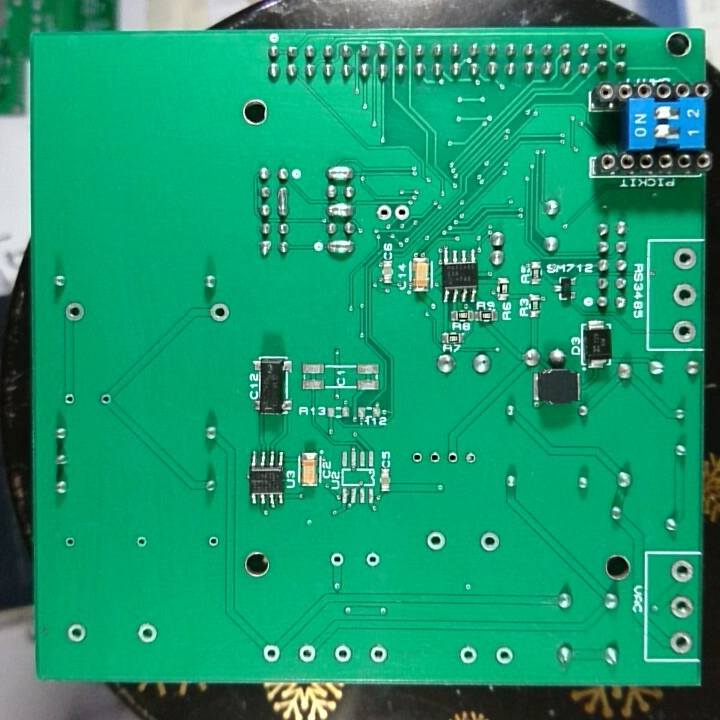F: (671, 280, 699, 309), (669, 318, 698, 346), (668, 558, 695, 586), (672, 246, 699, 272), (668, 595, 696, 620), (668, 629, 694, 655), (477, 528, 503, 553), (134, 620, 159, 645), (423, 528, 448, 553), (205, 300, 231, 323), (64, 621, 88, 645), (62, 300, 85, 324), (367, 641, 389, 665), (494, 644, 516, 667), (332, 643, 354, 665), (260, 643, 283, 664), (457, 644, 478, 666), (297, 643, 317, 665), (460, 446, 479, 469), (444, 446, 461, 471), (363, 550, 383, 570), (374, 202, 393, 223), (425, 447, 443, 469), (327, 550, 347, 569), (394, 201, 411, 223), (407, 448, 425, 467), (62, 534, 78, 552), (98, 391, 114, 408), (61, 390, 77, 407), (205, 532, 220, 549), (134, 534, 148, 549)
P: (325, 238, 357, 259), (274, 184, 292, 218), (324, 163, 356, 182), (325, 201, 356, 220)
